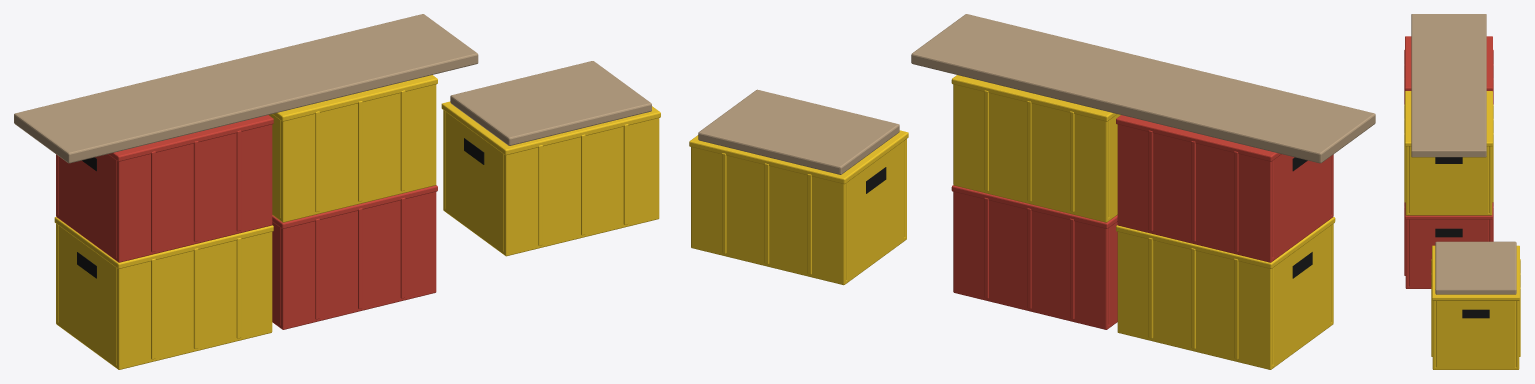
File: city-plastic-crate-seating.glb
3 views of the same model, side by side, from view 1: azimuth 30°, elevation 25°; view 2: azimuth 150°, elevation 25°; view 3: azimuth 270°, elevation 25° (orthographic). The views are drawn at different scales.
Parts seen in each view (by area): view 1: Assembly | Yellow polypropylene crate, Assembly | Red polypropylene crate, Assembly | Rough sawn plank, Assembly | Hand hole shadow; view 2: Assembly | Yellow polypropylene crate, Assembly | Red polypropylene crate, Assembly | Rough sawn plank, Assembly | Hand hole shadow; view 3: Assembly | Rough sawn plank, Assembly | Yellow polypropylene crate, Assembly | Red polypropylene crate, Assembly | Hand hole shadow.
Boxes of the visible parts, box(x1,y1,x2,y2) form: Assembly | Yellow polypropylene crate: box(54, 75, 660, 369); Assembly | Red polypropylene crate: box(56, 115, 437, 329); Assembly | Rough sawn plank: box(14, 14, 651, 163); Assembly | Hand hole shadow: box(77, 138, 484, 278); Assembly | Yellow polypropylene crate: box(689, 75, 1335, 369); Assembly | Red polypropylene crate: box(951, 115, 1333, 329); Assembly | Rough sawn plank: box(698, 14, 1375, 174); Assembly | Hand hole shadow: box(866, 157, 1312, 278); Assembly | Rough sawn plank: box(1411, 14, 1516, 294); Assembly | Yellow polypropylene crate: box(1404, 91, 1520, 369); Assembly | Red polypropylene crate: box(1404, 36, 1493, 288); Assembly | Hand hole shadow: box(1435, 157, 1489, 318).
Bounding box in the file's own units: 1.78 × 0.63 × 0.43.
